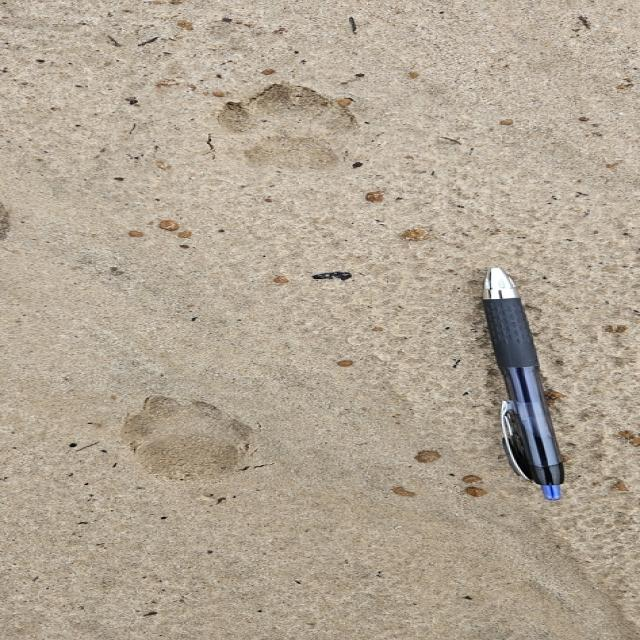felid: (219, 84, 360, 171), (119, 396, 254, 482)
